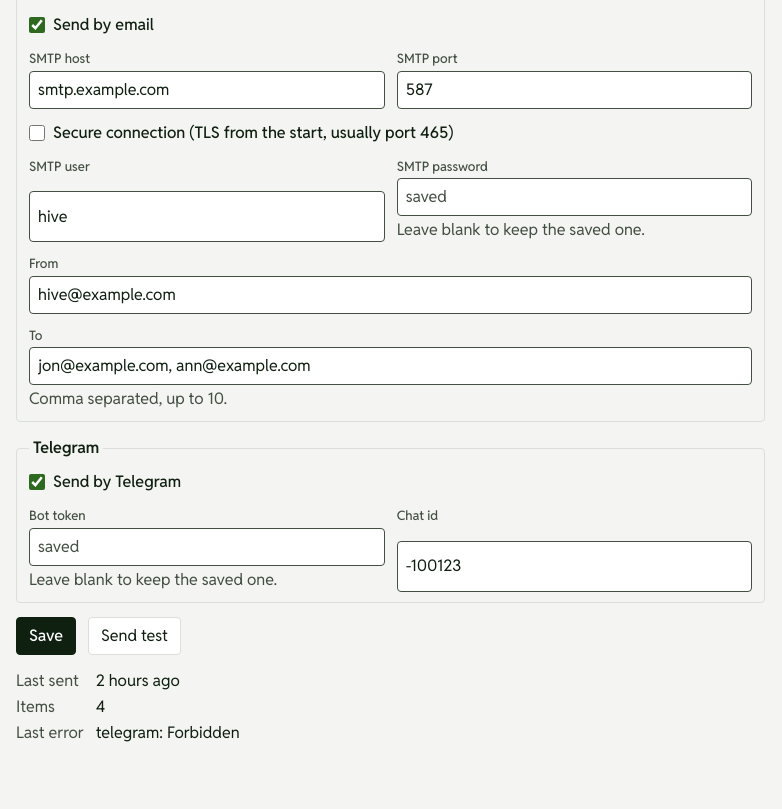
Test: settings page › sends a test and shows each channel's result; not while there are unsaved changes
(page scrolled)
Replace the text in the field labelled "Chat id" with "-100999" at (574, 566), box [397, 540, 752, 592]
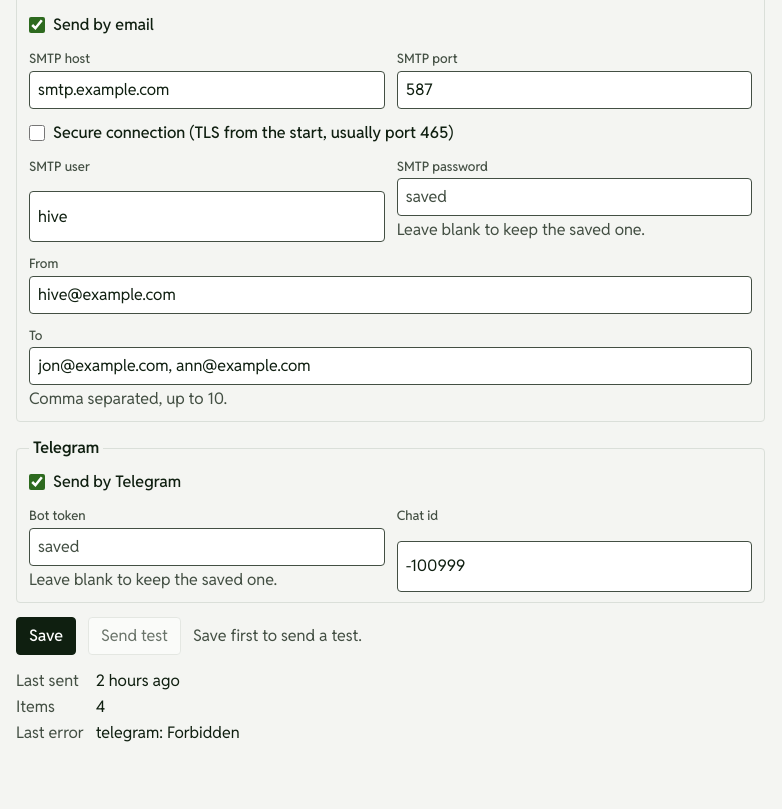
Expected: the button "Send test" is disabled, [88, 616, 181, 654]
Expected: the text "Save first to send a test." is shown, [193, 624, 362, 648]
Replace the text in the field labelled "Chat id" with "-100123" at (574, 566), box [397, 540, 752, 592]
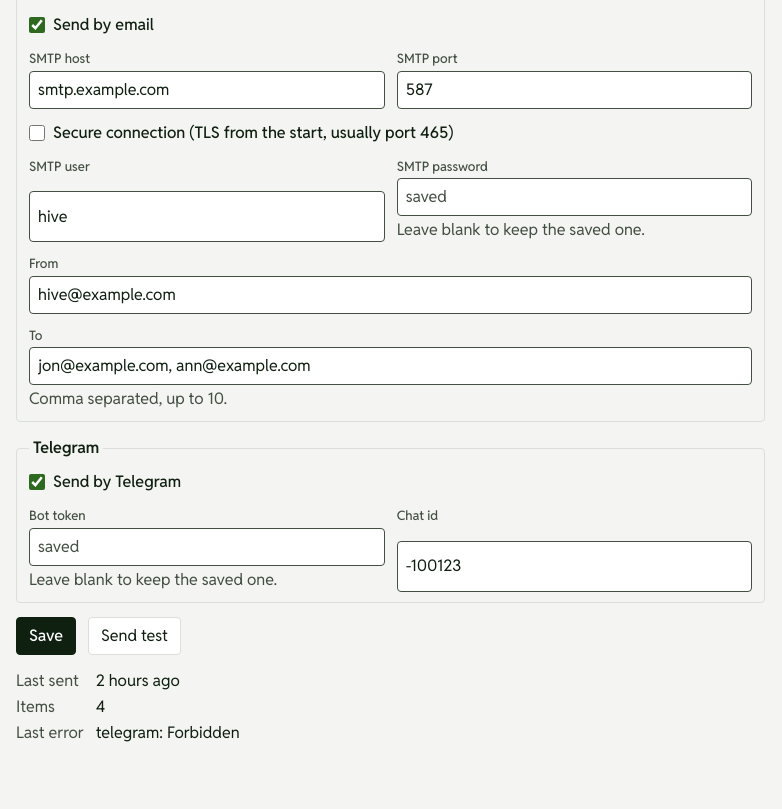
Expected: the button "Send test" is enabled
Click the button "Send test".
click(134, 636)  # box [88, 616, 181, 654]
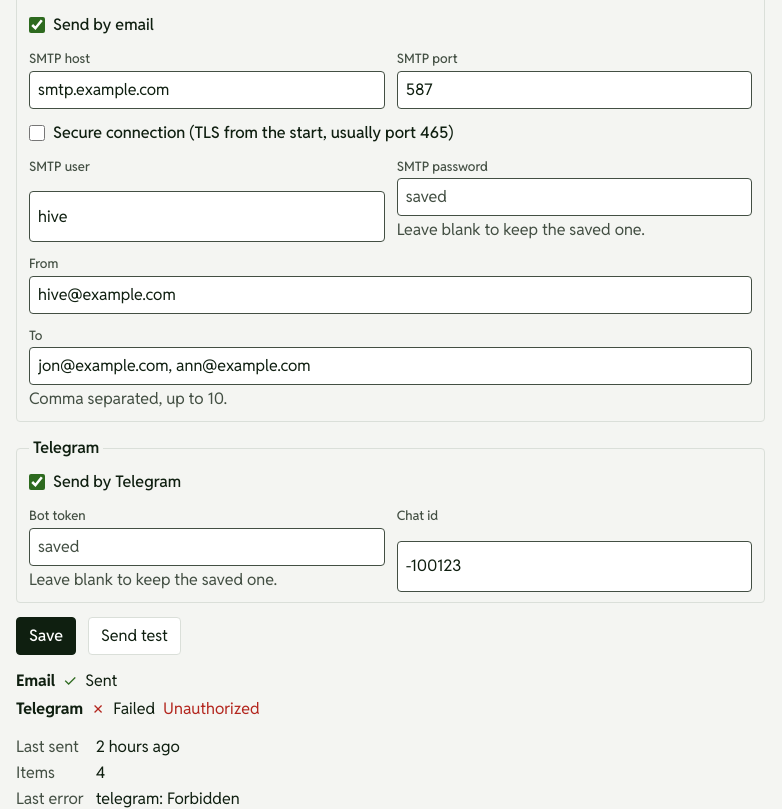
Expected: the list items read "Email ✓ Sent", "Telegram ✗ FailedUnauthorized", in this order, [16, 670, 118, 690]; [16, 698, 260, 718]
